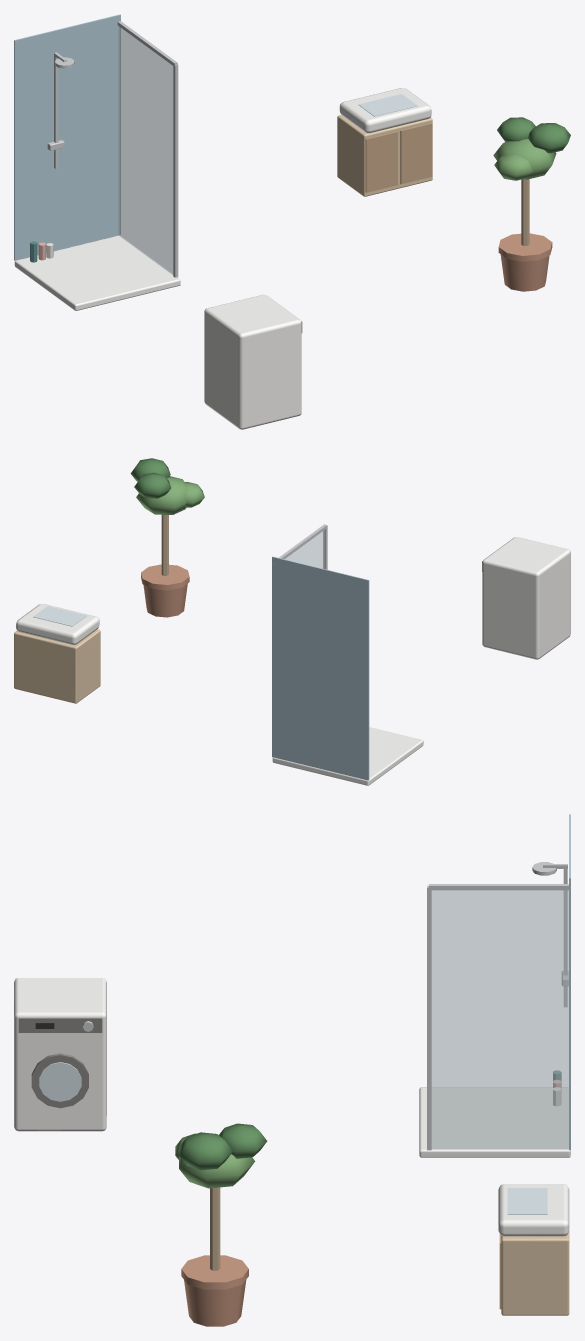
Rendered from einrichtung_bad_buehne.glb.
3 renders of one model, top to bottom at view 1: azimuth 30°, elevation 25°; view 2: azimuth 150°, elevation 25°; view 3: azimuth 270°, elevation 25°, orthographic. The views are drawn at different scales.
Parts seen in each view (by area): view 1: einrichtung_bad_buehne; view 2: einrichtung_bad_buehne; view 3: einrichtung_bad_buehne.
Part boxes in pixels (x1,y1,x2,y2): einrichtung_bad_buehne: (14,14,570,429); einrichtung_bad_buehne: (14,458,570,785); einrichtung_bad_buehne: (14,814,570,1326).
Size of the model in its own units: 3.75 by 2 by 3.6.
